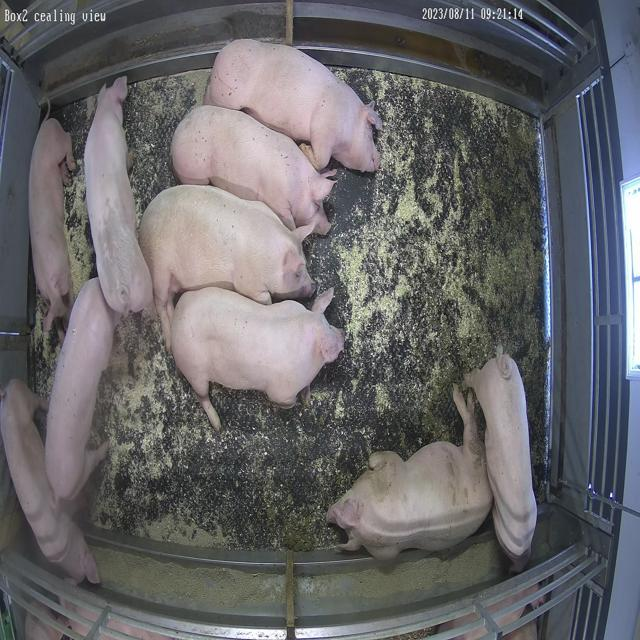Dirt: (463, 96, 547, 494)
Pig: (328, 386, 494, 561), (139, 185, 315, 350), (172, 287, 345, 432), (205, 38, 382, 172), (171, 105, 335, 234), (0, 380, 98, 584), (84, 76, 152, 316), (466, 347, 538, 572), (46, 278, 117, 502), (28, 118, 75, 332)
